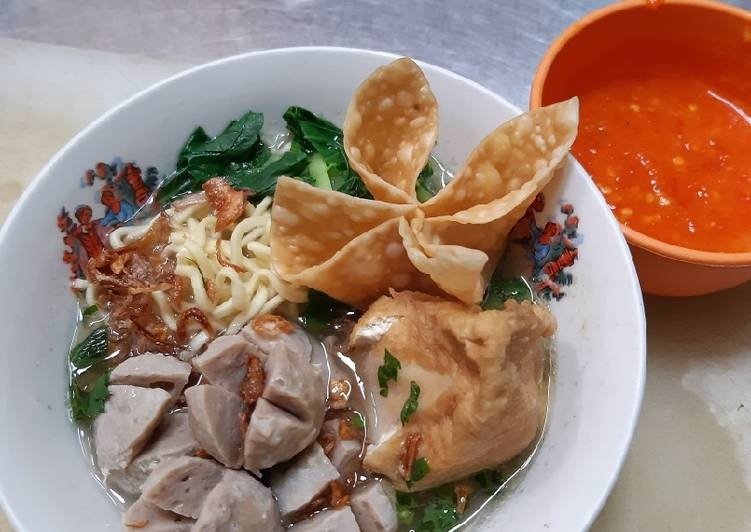bakso_malang: (74, 55, 579, 532)
